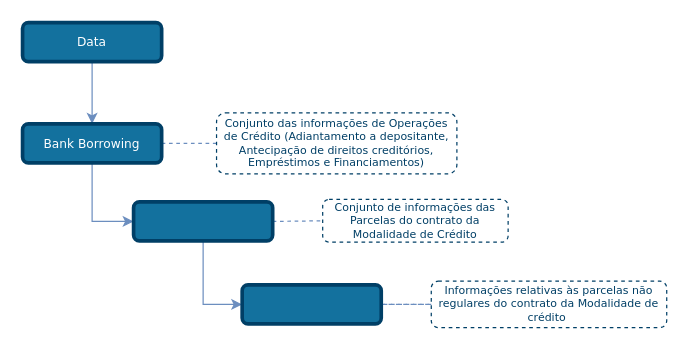
This 688x349 diagram has some shape labels left out. Each missing label, with the centre of its shape:
"Ballon Payment" goes at point 311,303.
"Instalments" goes at point 202,220.
